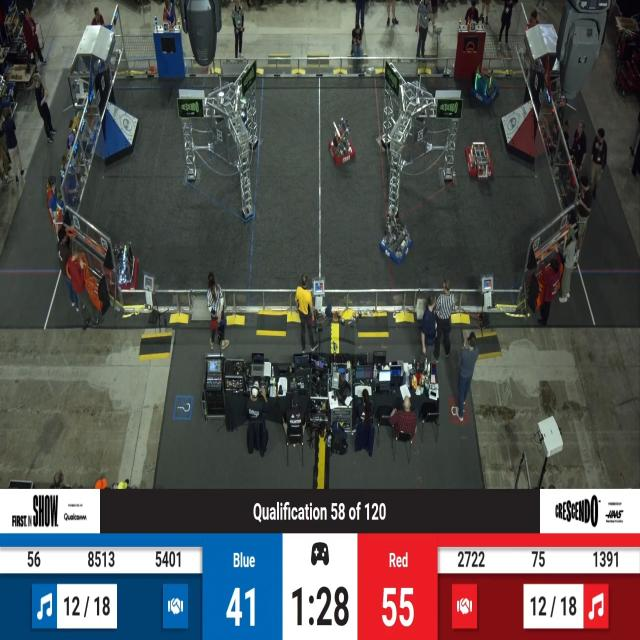Robot: (380, 208, 415, 266), (111, 241, 142, 296), (329, 117, 357, 169), (471, 62, 501, 108), (467, 138, 496, 180)
